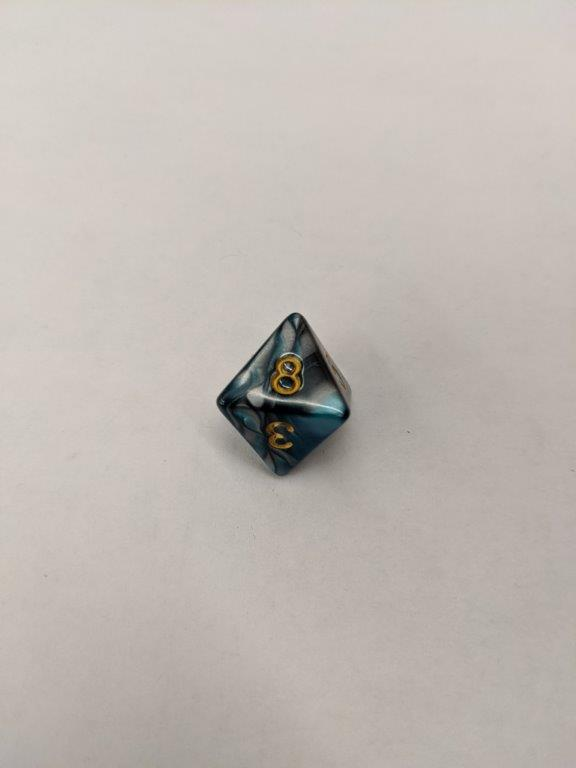d8-8: (218, 313, 352, 480)
